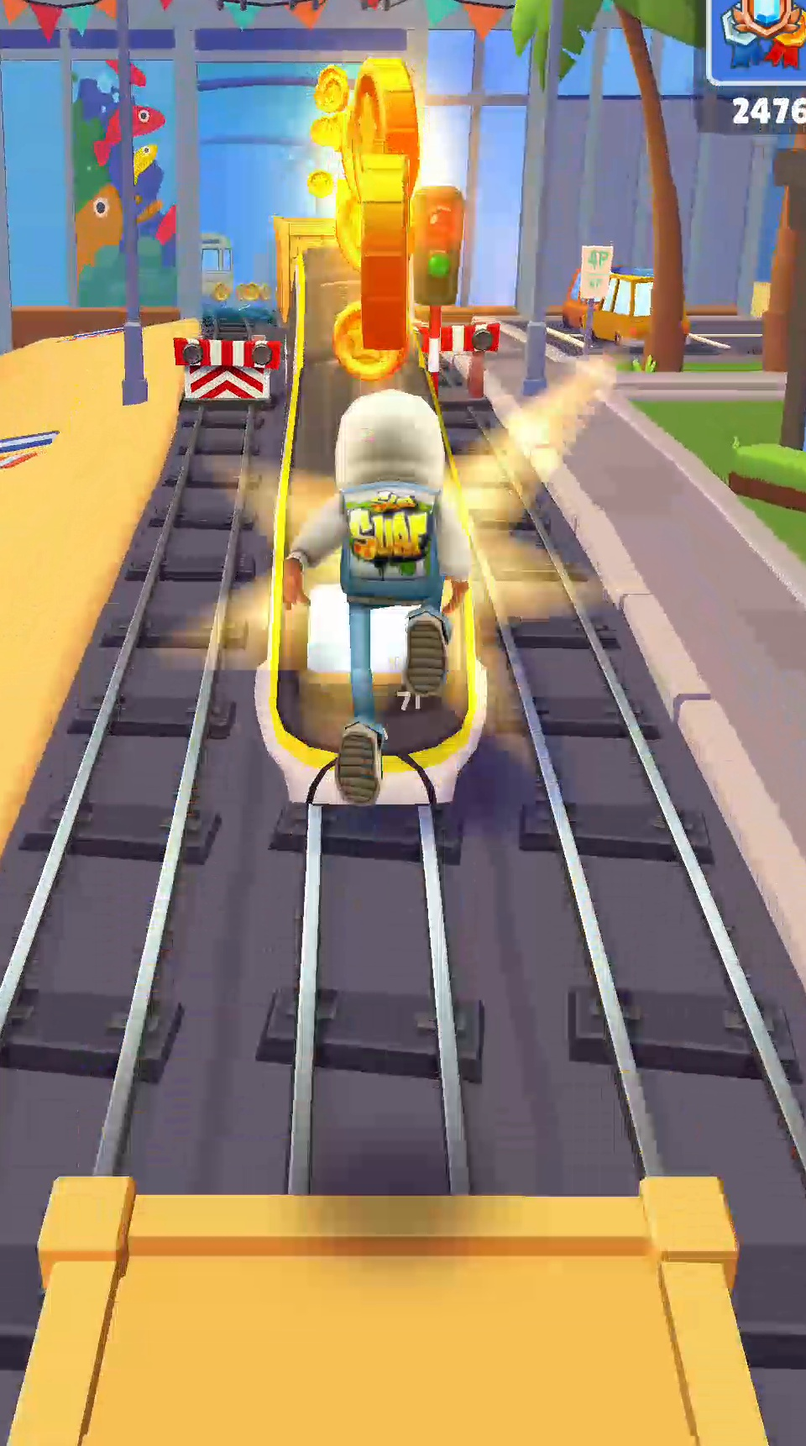blocker: (416, 318, 499, 398)
roll blocker: (175, 335, 281, 404)
train: (255, 247, 485, 808), (275, 217, 337, 321), (202, 234, 233, 300)
